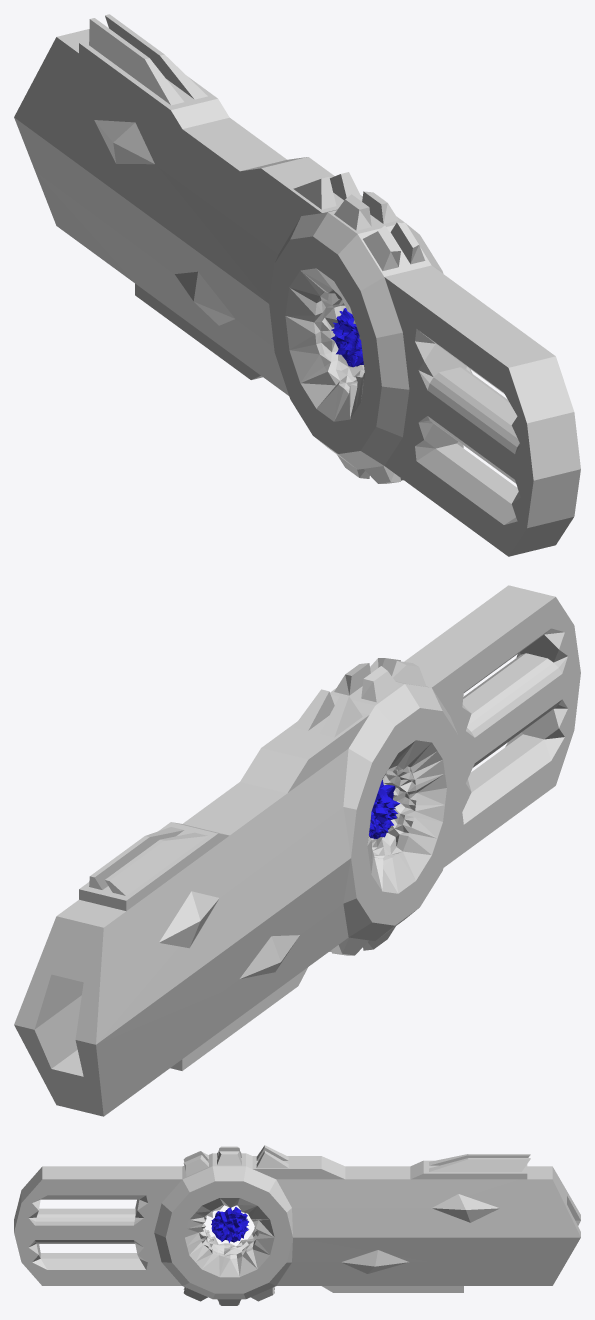
The model's file is Rifle 1.fbx.
The picture shows the model from 3 angles, top to bottom: view 1: azimuth 30°, elevation 25°; view 2: azimuth 150°, elevation 25°; view 3: azimuth 270°, elevation 25°; orthographic projection. The views are drawn at different scales.
Visible parts, largest first — view 1: gun, handle, top sight, top diamond, bottom sight, bottom diamond, orb; view 2: gun, handle, top sight, top diamond, bottom sight, bottom diamond, orb; view 3: gun, handle, top sight, top diamond, orb, bottom sight, bottom diamond.
Boxes of the visible parts, x1,y1,x2,y2 form: gun: (14, 29, 580, 556); handle: (404, 280, 538, 543); top sight: (79, 14, 229, 128); top diamond: (94, 120, 154, 164); bottom sight: (135, 283, 262, 379); bottom diamond: (175, 271, 234, 325); orb: (331, 308, 363, 367); gun: (14, 585, 580, 1116); handle: (404, 597, 551, 861); top sight: (79, 822, 229, 910); top diamond: (159, 891, 219, 948); bottom sight: (170, 967, 307, 1070); bottom diamond: (239, 935, 299, 979); orb: (369, 780, 400, 838); gun: (14, 1145, 580, 1305); handle: (40, 1166, 160, 1285); top sight: (410, 1154, 530, 1179); top diamond: (432, 1194, 499, 1222); orb: (211, 1207, 248, 1242); bottom sight: (322, 1286, 463, 1292); bottom diamond: (341, 1250, 408, 1273).
Size of the model in its own units: 75.65 by 226 by 754.
